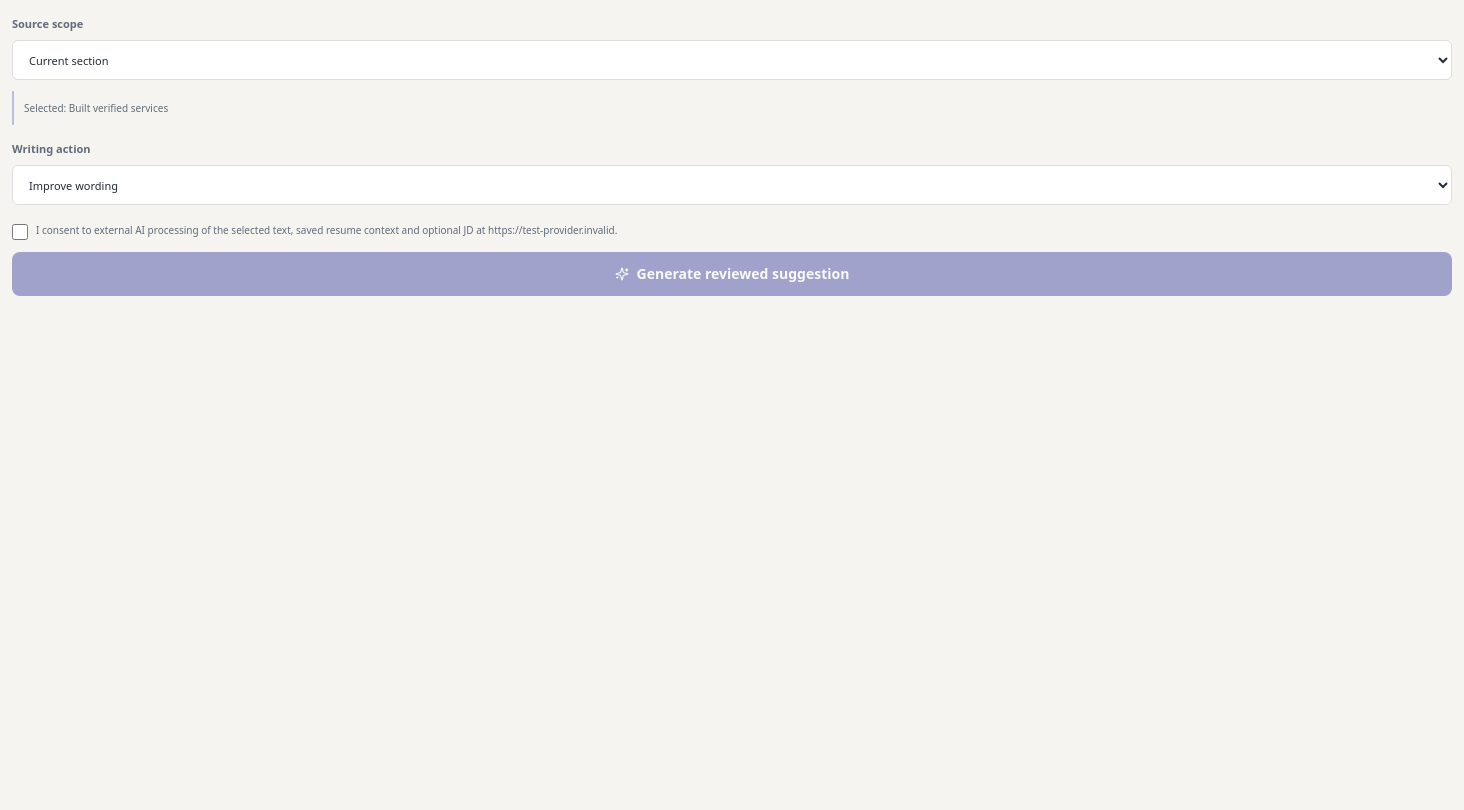
Test: reviewed studio writing › retains multiple generated versions and blocks unresolved placeholders
Select "Selected text only" in the dropdown labelled "Source scope" at (732, 60), box [12,40,1452,80]
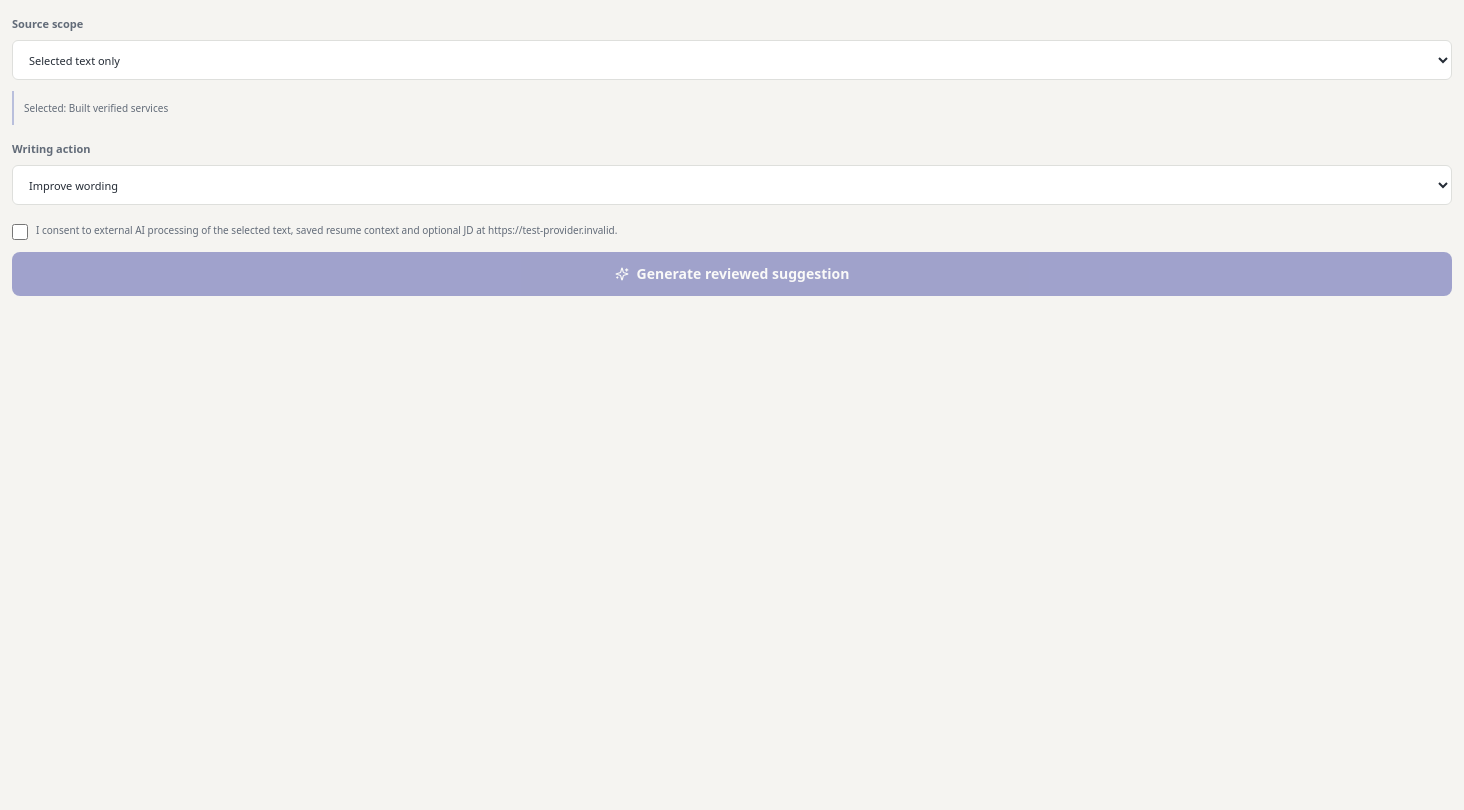
Click the checkbox labelled "I consent to external AI processing" at (20, 232), box [12,224,28,240]
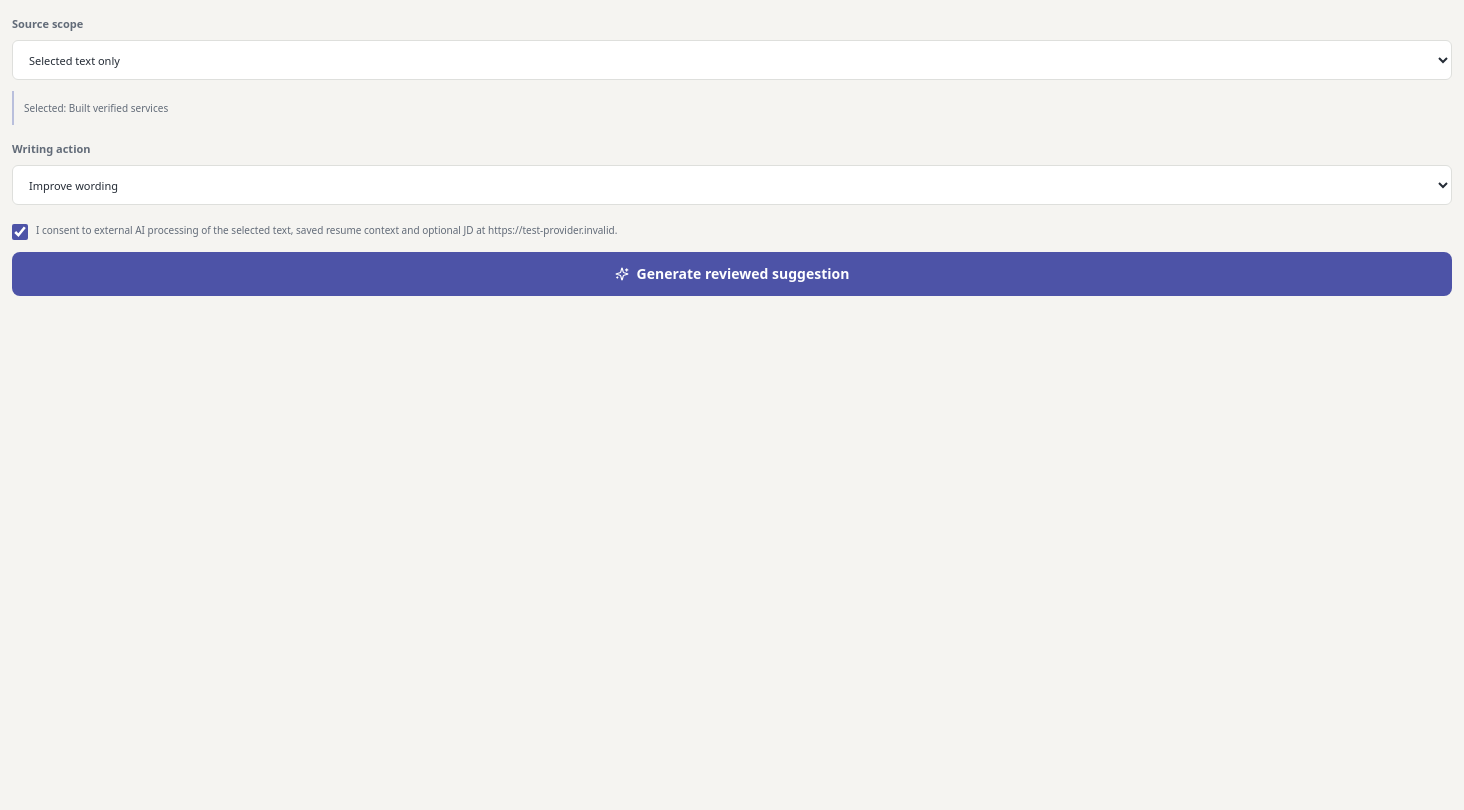
Click the button "Generate reviewed suggestion" at (732, 274), box [12,252,1452,296]
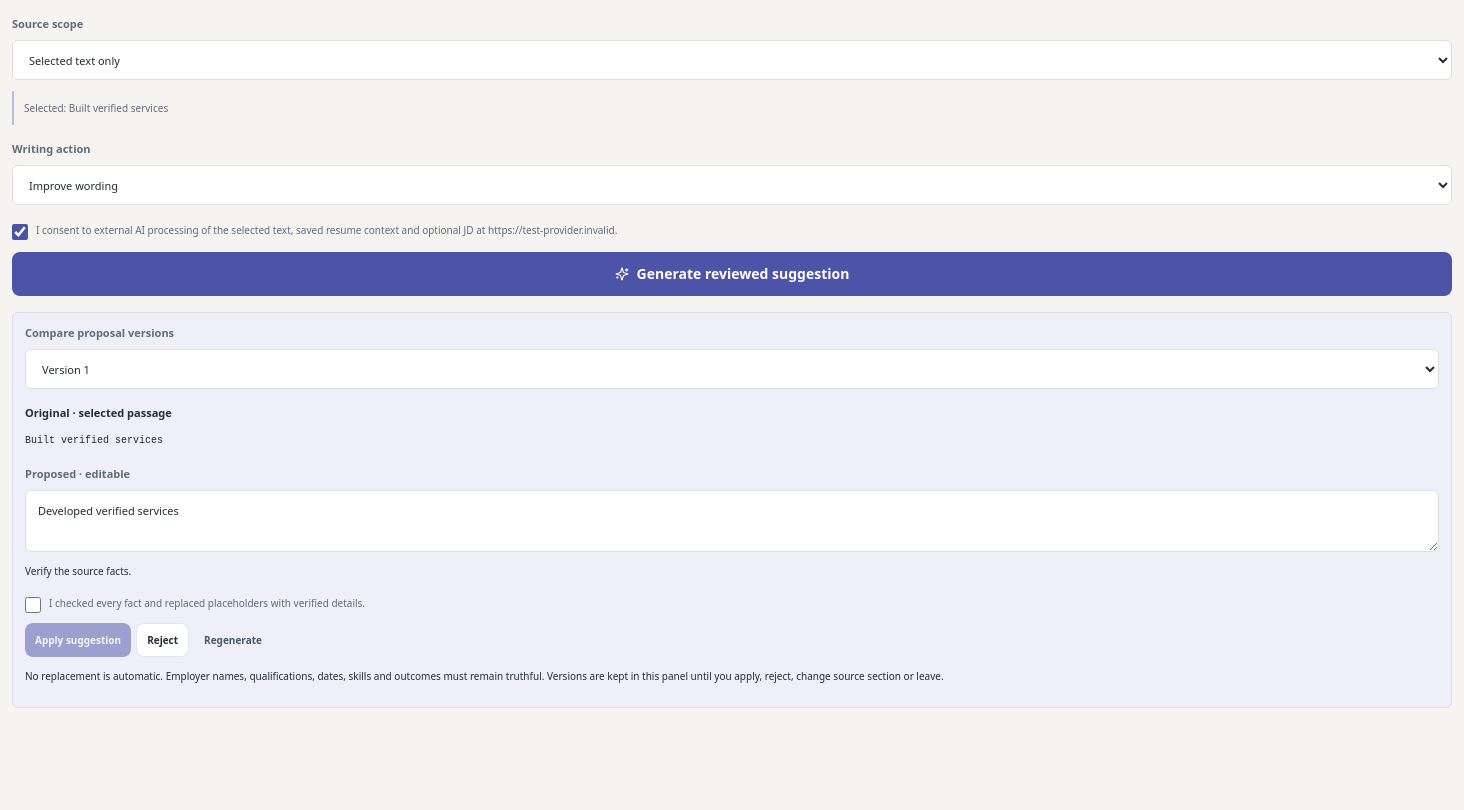
Expected: the text box labelled "Proposed · editable" is shown, [25,490,1439,552]
Click the button "Regenerate" at (233, 640), box [194,622,272,656]
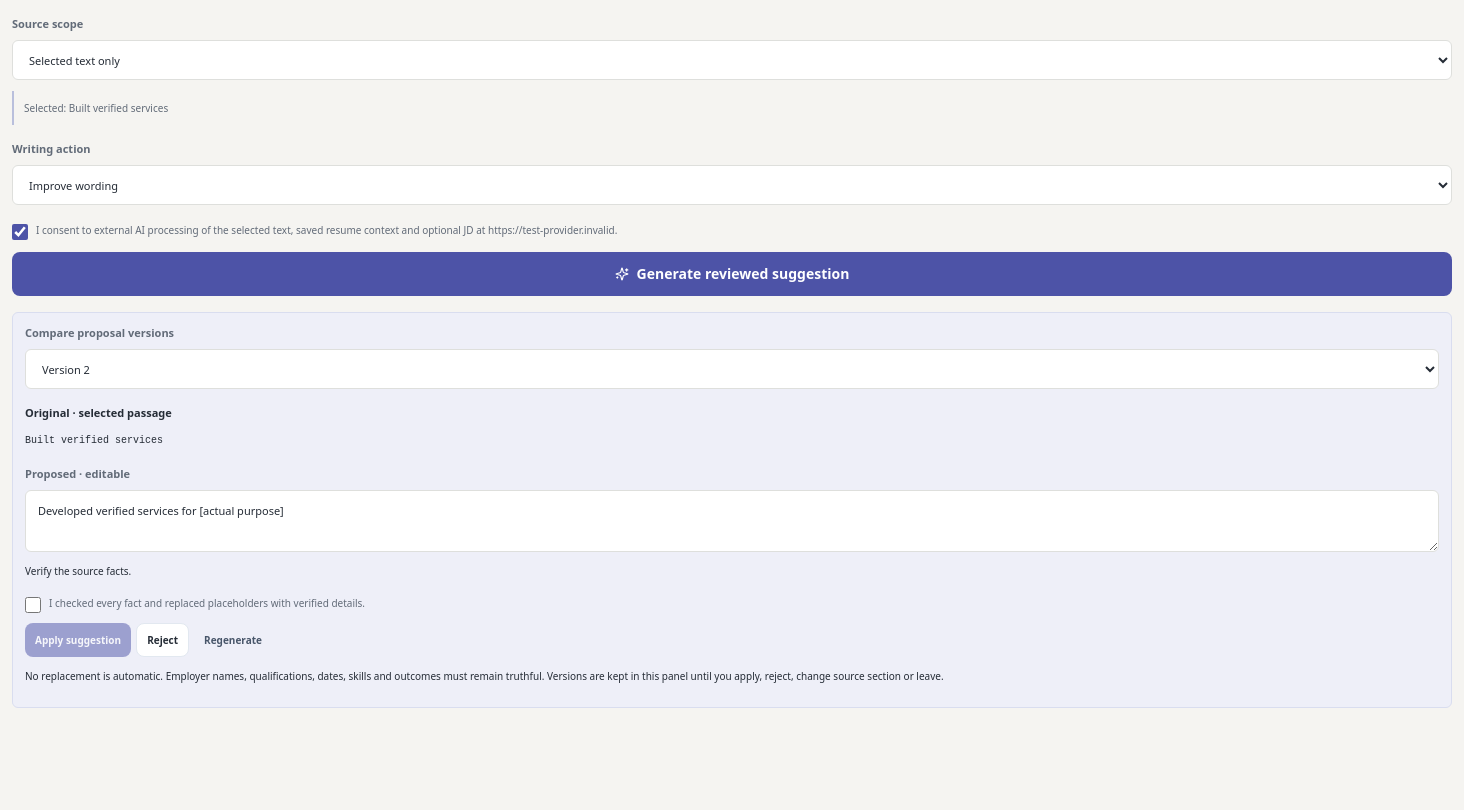
Click the checkbox labelled "I checked every fact" at (33, 604), box [25,596,41,612]
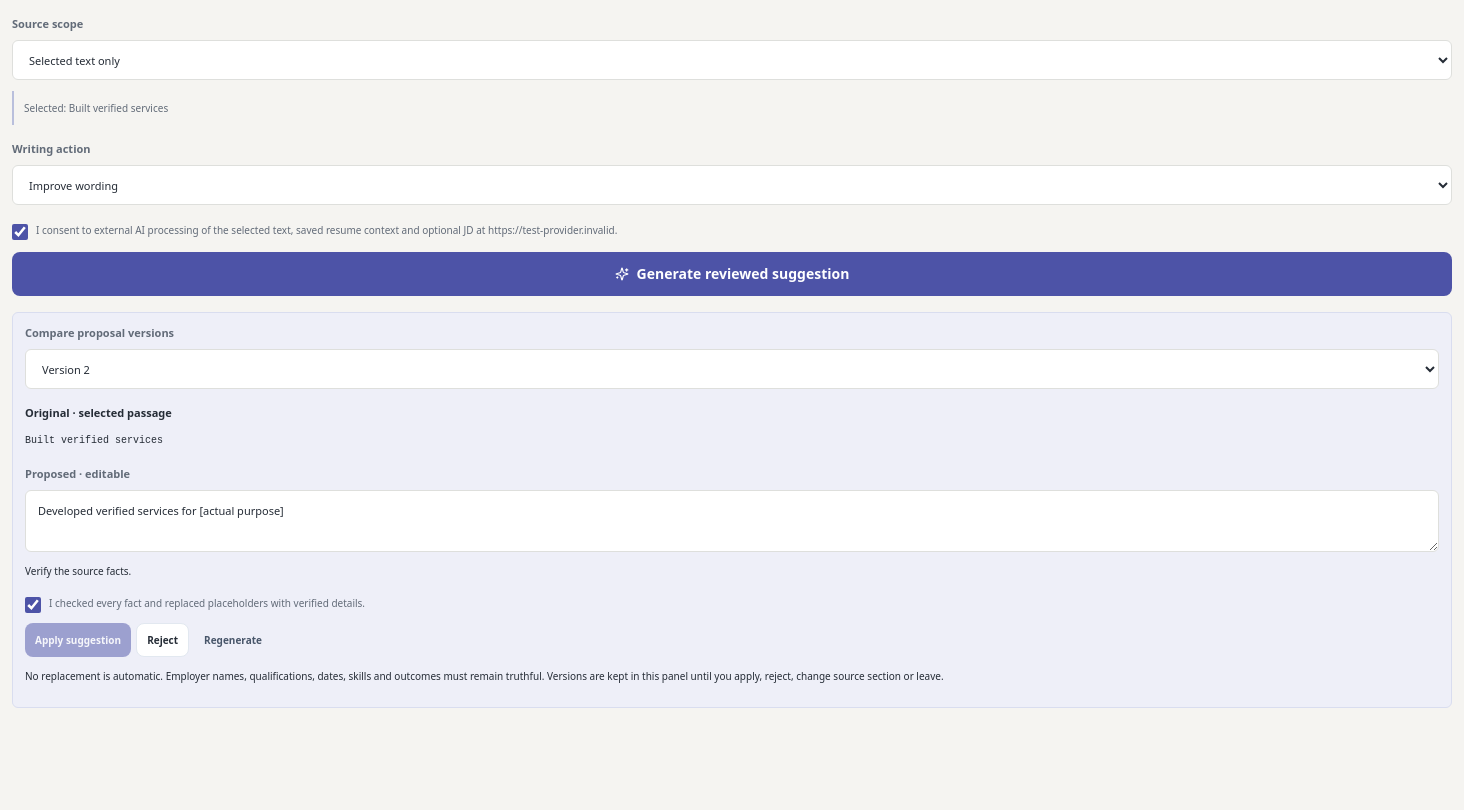
Expected: the button "Apply suggestion" is disabled, [25,622,131,656]
Select "Version 1" in the dropdown labelled "Compare proposal versions" at (732, 369), box [25,349,1439,389]
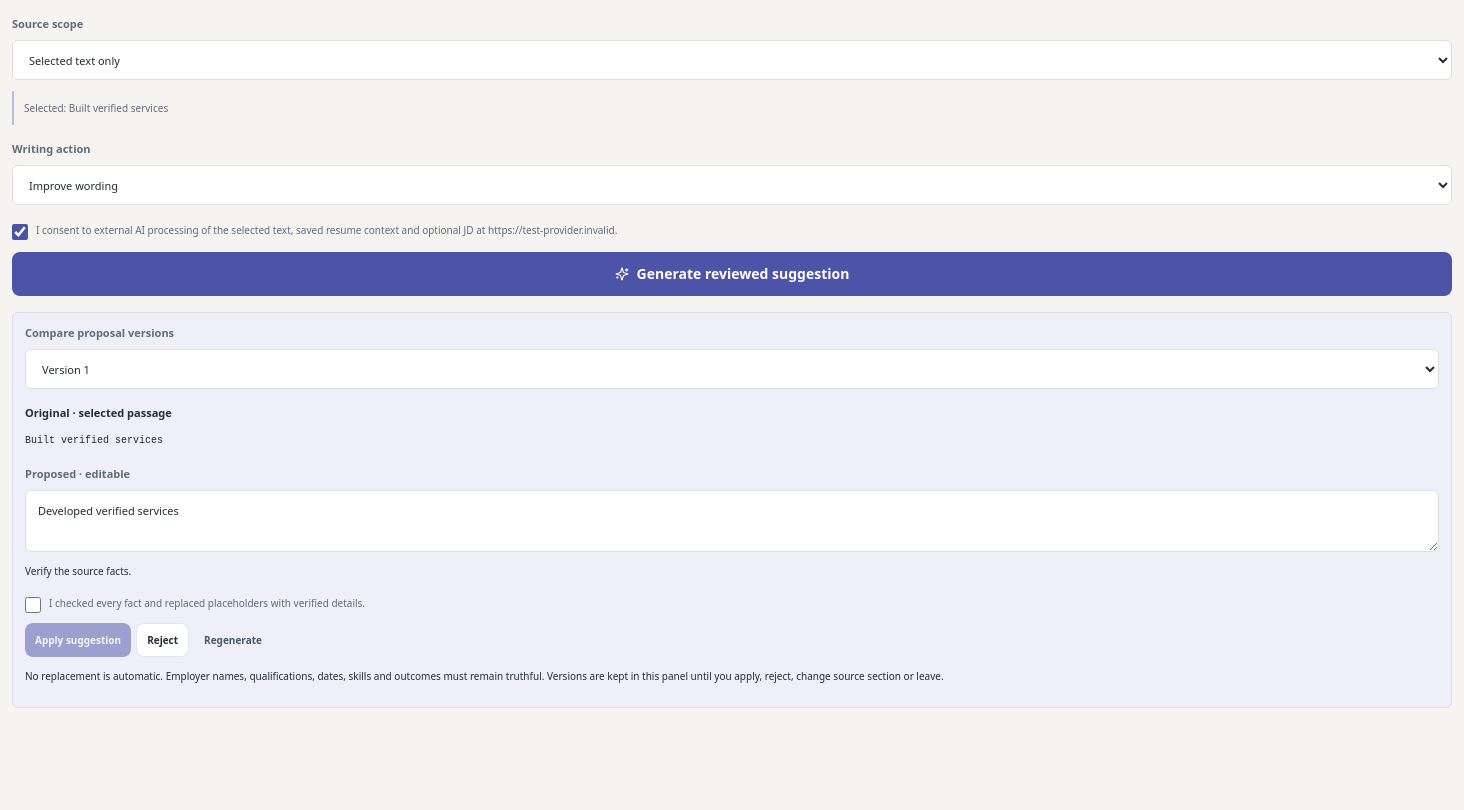
Expected: the text box labelled "Proposed · editable" holds "Developed verified services", [25,490,1439,552]
